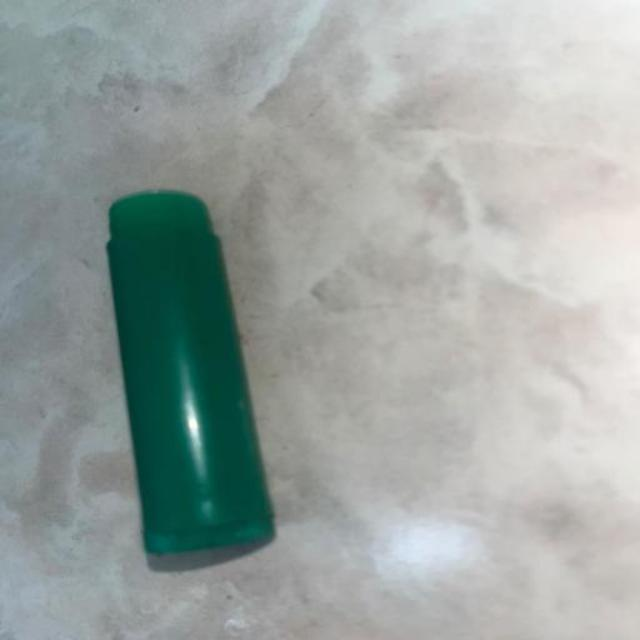HDPE: (39, 176, 361, 630)
